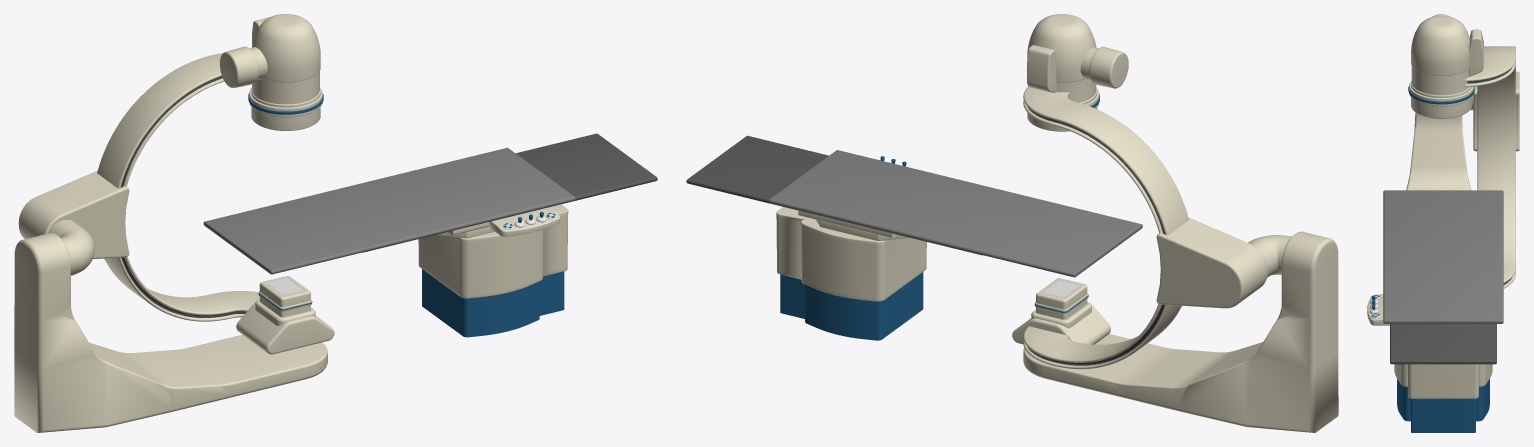
Rendered from ctr.obj.
The picture shows the model from 3 angles, left to right: view 1: azimuth 30°, elevation 25°; view 2: azimuth 150°, elevation 25°; view 3: azimuth 270°, elevation 25°; orthographic projection. The views are drawn at different scales.
Parts seen in each view (by area): view 1: cadnav_com; view 2: cadnav_com; view 3: cadnav_com.
Boxes of the visible parts, x1,y1,x2,y2 form: cadnav_com: (14,14,657,432); cadnav_com: (686,14,1338,432); cadnav_com: (1367,14,1519,432).
Bounding box in the file's own units: 0.4276 × 0.2302 × 0.1064.
